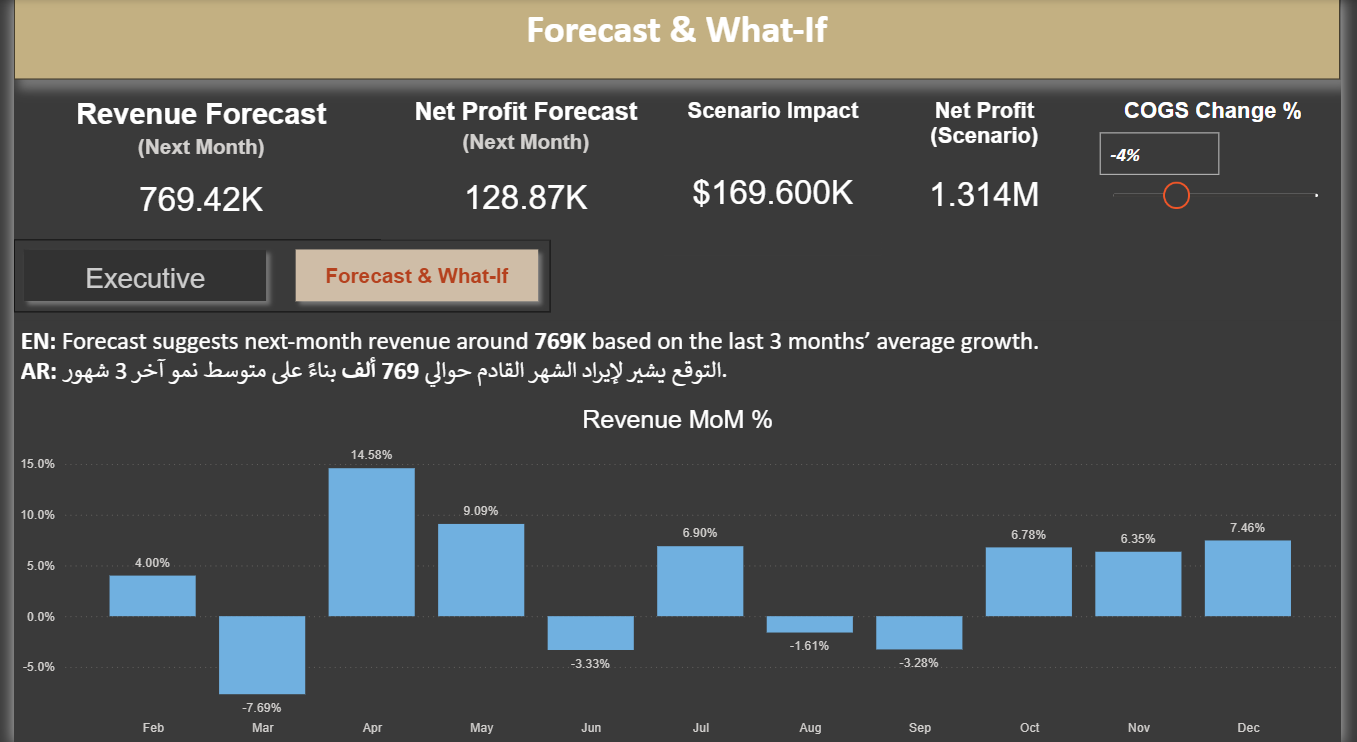

Layout of this report page (visuals, bound fields, positions):
{"tool":"powerbi","page":{"name":"Forecast & What-If","canvas":[1280,720],"ordinal":1},"visuals":[{"type":"pageNavigator","box":[0,232.2,517.3,70.4],"z":0},{"type":"card","title":"Revenue Forecast","fields":{"Values":["COGS Change %.Revenue Forecast (Next Month)"]},"box":[0,95.3,361.1,135.9],"z":1000},{"type":"slicer","title":"COGS Change % ","fields":{"Values":["COGS Change %.COGS Change %"]},"box":[1034.9,95.2,244.4,136.5],"z":2000},{"type":"card","title":"Net Profit (Scenario)","fields":{"Values":["COGS Change %.Net Profit (Scenario)"]},"box":[831.6,95.3,210.6,136.6],"z":3000},{"type":"card","title":"Scenario Impact","fields":{"Values":["COGS Change %.Scenario Impact"]},"box":[627.2,95.6,210.1,152.1],"z":4000},{"type":"clusteredColumnChart","title":"Revenue MoM % ","fields":{"Category":["Finance_Model.Month"],"Y":["Finance_Model.Revenue MoM %"]},"box":[0,392.4,1280.9,327.3],"z":5000},{"type":"textbox","box":[1.7,310,1278.3,83.3],"z":6000},{"type":"card","title":"Net Profit Forecast","fields":{"Values":["COGS Change %.Net Profit Forecast (Next Month)"]},"box":[354.8,95.3,278.9,136.6],"z":7000},{"type":"textbox","box":[0,0,1279.5,77.4],"z":8000}]}

Visuals, with their boxes in screenshot pixels (x1, y1, x2, y2), scaled from the page's 1280x720 canvas onto the 1357x742 screenshot:
pageNavigator: [0, 239, 548, 312]
"Revenue Forecast" card: [0, 98, 383, 238]
"COGS Change % " slicer: [1097, 98, 1356, 239]
"Net Profit (Scenario)" card: [882, 98, 1105, 239]
"Scenario Impact" card: [665, 99, 888, 255]
"Revenue MoM % " clusteredColumnChart: [0, 404, 1356, 741]
textbox: [2, 319, 1356, 405]
"Net Profit Forecast" card: [376, 98, 672, 239]
textbox: [0, 0, 1356, 80]
